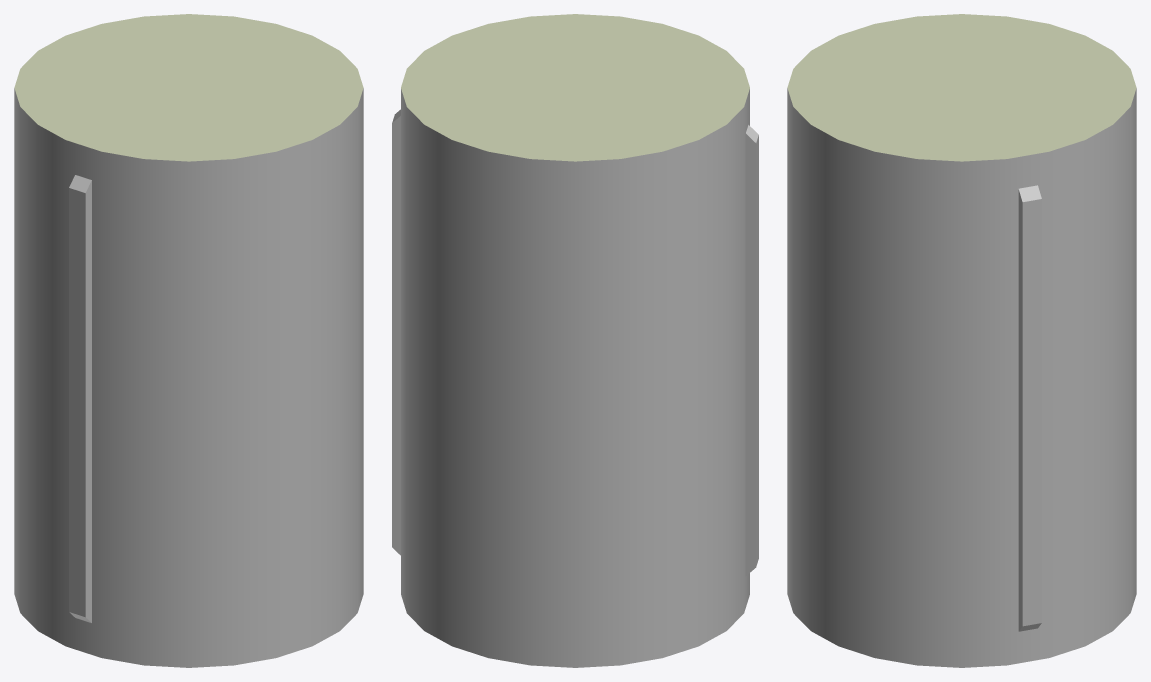
The model's file is corvus_lv_fuel_tank_s1_2.obj.
3 renders of one model, left to right at view 1: azimuth 30°, elevation 25°; view 2: azimuth 150°, elevation 25°; view 3: azimuth 270°, elevation 25°, orthographic.
Visible parts, largest first — view 1: corvus_lv_fuel_tank_s1_2_corvus_lv_fuel_tank_s1_2_auv, corvus_lv_fuel_tank_s1_2_default; view 2: corvus_lv_fuel_tank_s1_2_corvus_lv_fuel_tank_s1_2_auv, corvus_lv_fuel_tank_s1_2_default; view 3: corvus_lv_fuel_tank_s1_2_corvus_lv_fuel_tank_s1_2_auv, corvus_lv_fuel_tank_s1_2_default.
Part boxes in pixels (x1=…): corvus_lv_fuel_tank_s1_2_corvus_lv_fuel_tank_s1_2_auv: x1=14, y1=88, x2=363, y2=667; corvus_lv_fuel_tank_s1_2_default: x1=14, y1=14, x2=363, y2=161; corvus_lv_fuel_tank_s1_2_corvus_lv_fuel_tank_s1_2_auv: x1=392, y1=89, x2=758, y2=667; corvus_lv_fuel_tank_s1_2_default: x1=401, y1=14, x2=749, y2=161; corvus_lv_fuel_tank_s1_2_corvus_lv_fuel_tank_s1_2_auv: x1=787, y1=88, x2=1136, y2=667; corvus_lv_fuel_tank_s1_2_default: x1=787, y1=14, x2=1136, y2=161.
Bounding box in the file's own units: 1.25 × 2 × 1.25.
